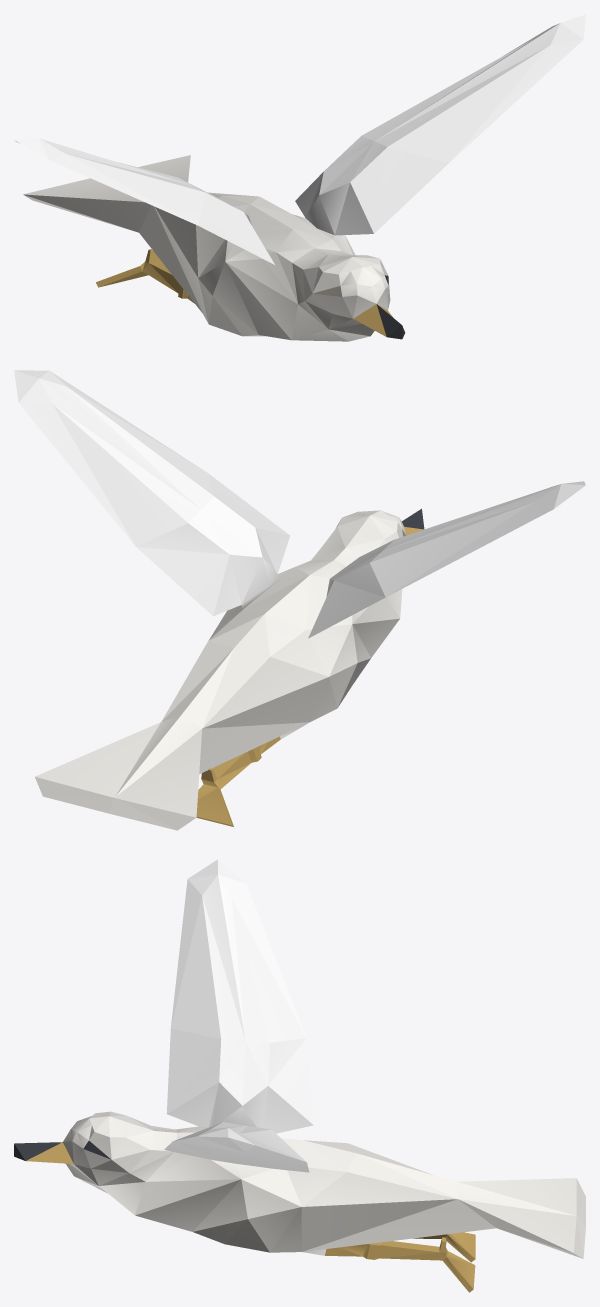
Rendered from bird.glb.
3 renders of one model, top to bottom at view 1: azimuth 30°, elevation 25°; view 2: azimuth 150°, elevation 25°; view 3: azimuth 270°, elevation 25°, orthographic. The views are drawn at different scales.
Visible parts, largest first — view 1: bird; view 2: bird; view 3: bird.
Part boxes in pixels (x1,y1,x2,y2): bird: (14,14,585,341); bird: (14,370,585,830); bird: (14,859,585,1292).
Size of the model in its own units: 1.4 by 0.7002 by 1.3.
